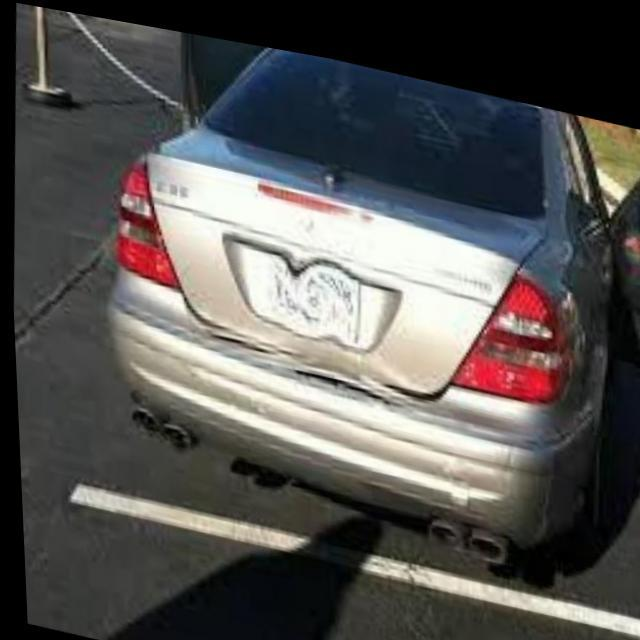crack: (440, 432, 475, 490)
dent: (270, 239, 395, 400)
